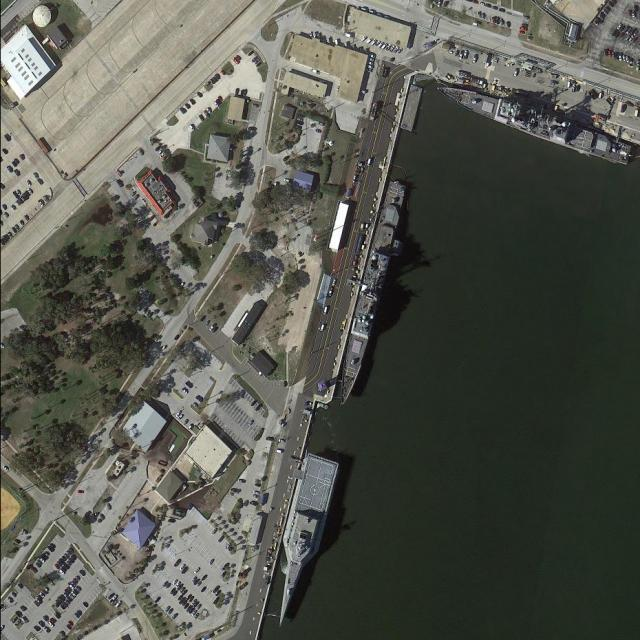Cruiser: (332, 180, 406, 410), (432, 81, 633, 163)
Frigate: (261, 455, 338, 630)
